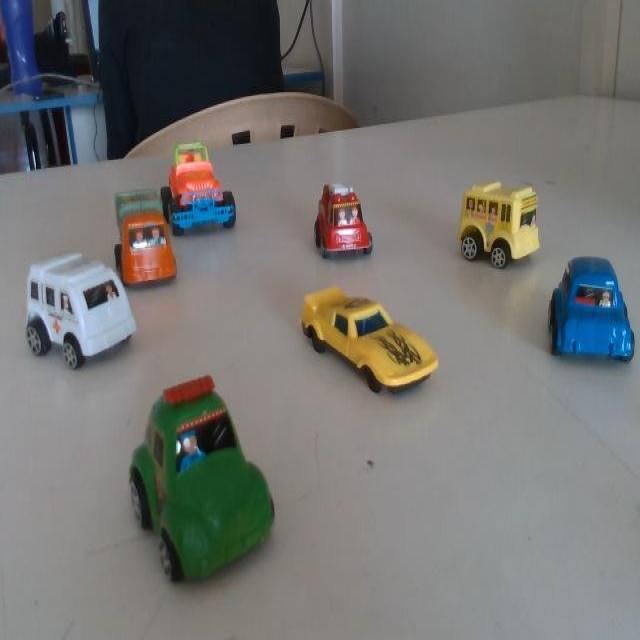car: (116, 378, 274, 568), (296, 274, 437, 404), (19, 238, 136, 382), (546, 251, 639, 376), (450, 178, 537, 278), (167, 133, 245, 232), (111, 178, 175, 290), (303, 172, 372, 271)
